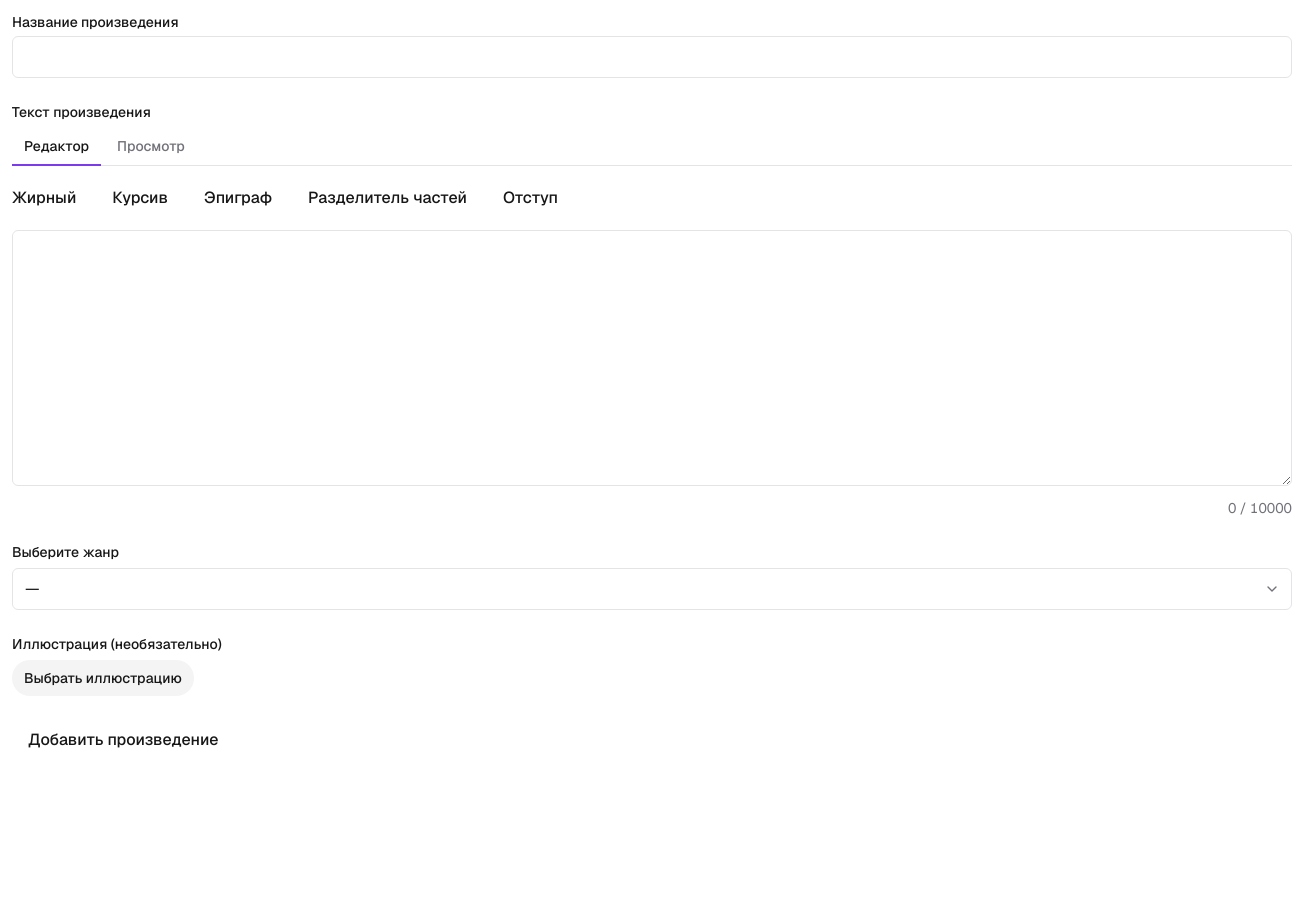
Test: NewPoemForm › switches an open «Просмотр» back to «Редактор» to focus an invalid text
The width and height of the screenshot is (1304, 912).
Click the field labelled "Название произведения" at (652, 57), box x1=12 y1=36 x2=1292 y2=78
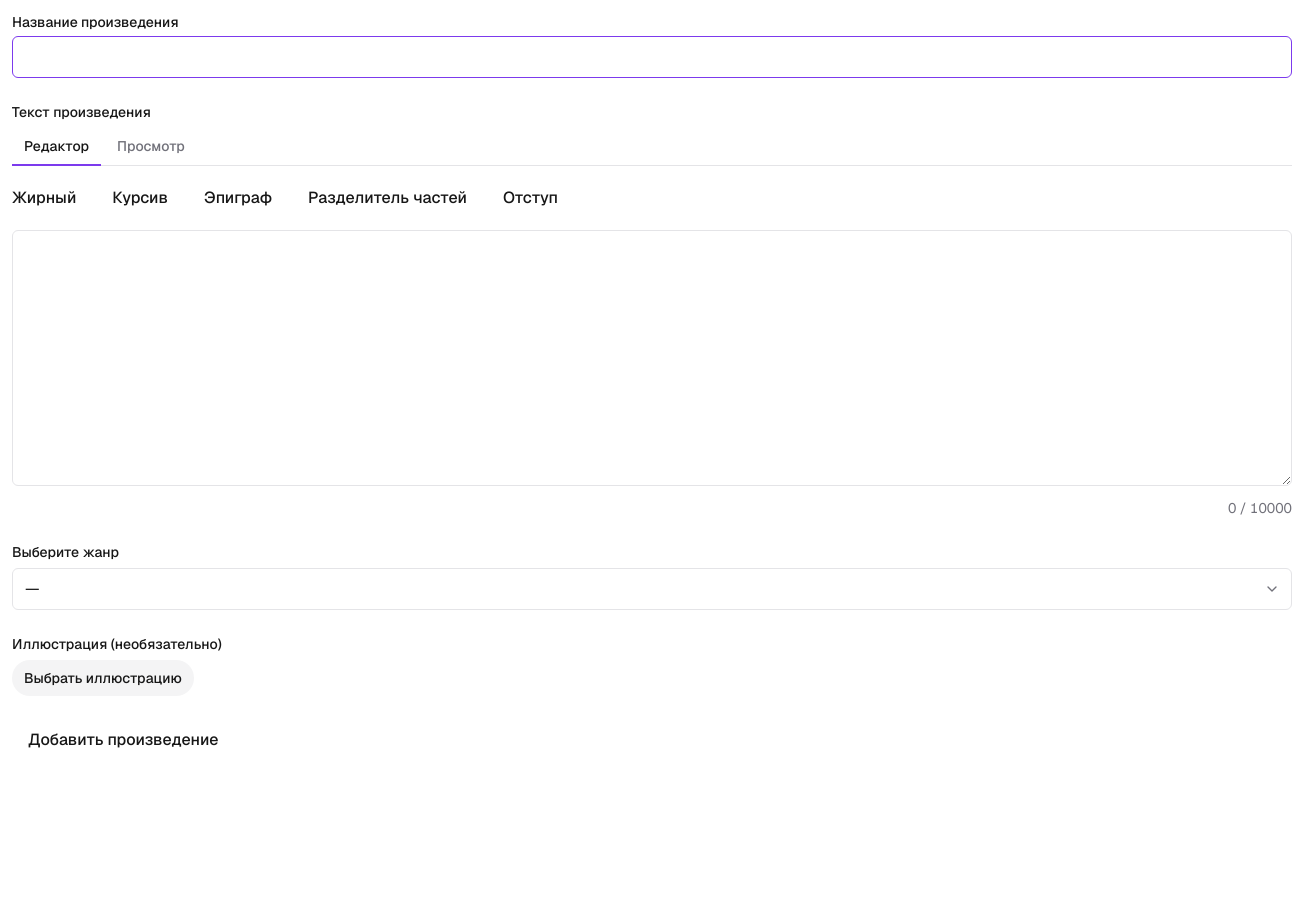
Type keys "Первый снег"
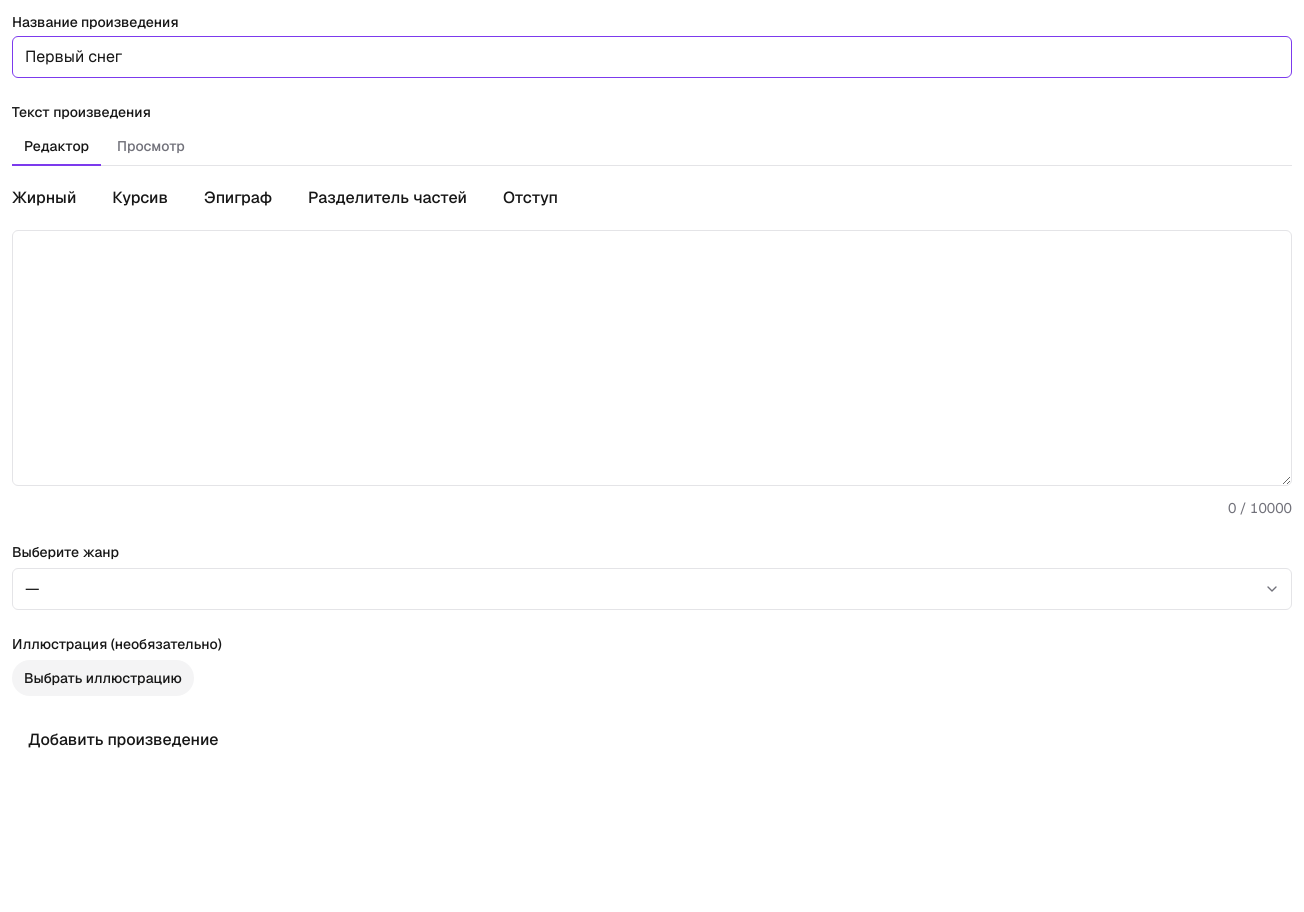
Select "Лирика" in the dropdown labelled "Выберите жанр" at (652, 589), box x1=12 y1=568 x2=1292 y2=610
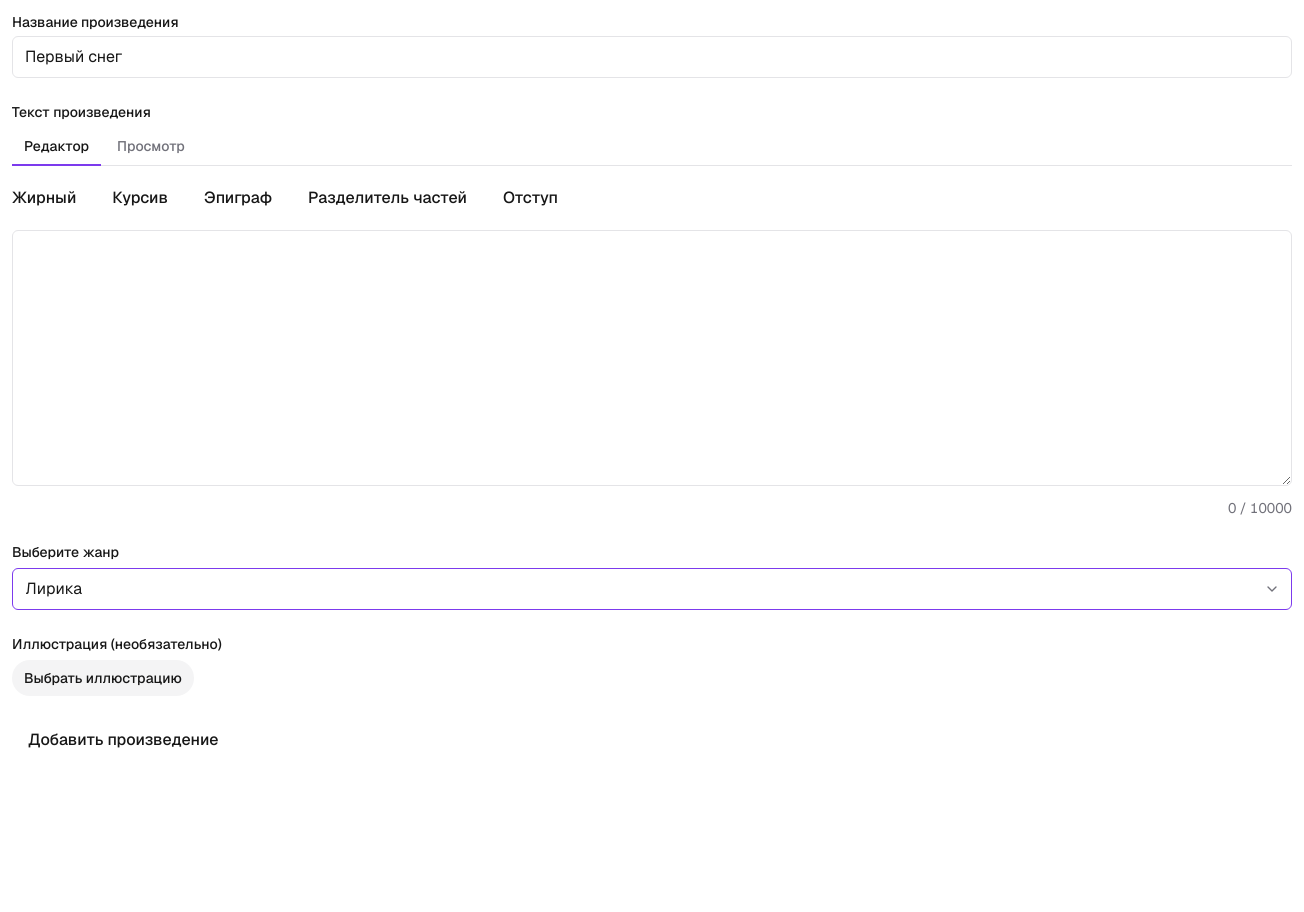
Click the tab "Просмотр" at (151, 147), box x1=105 y1=128 x2=197 y2=166
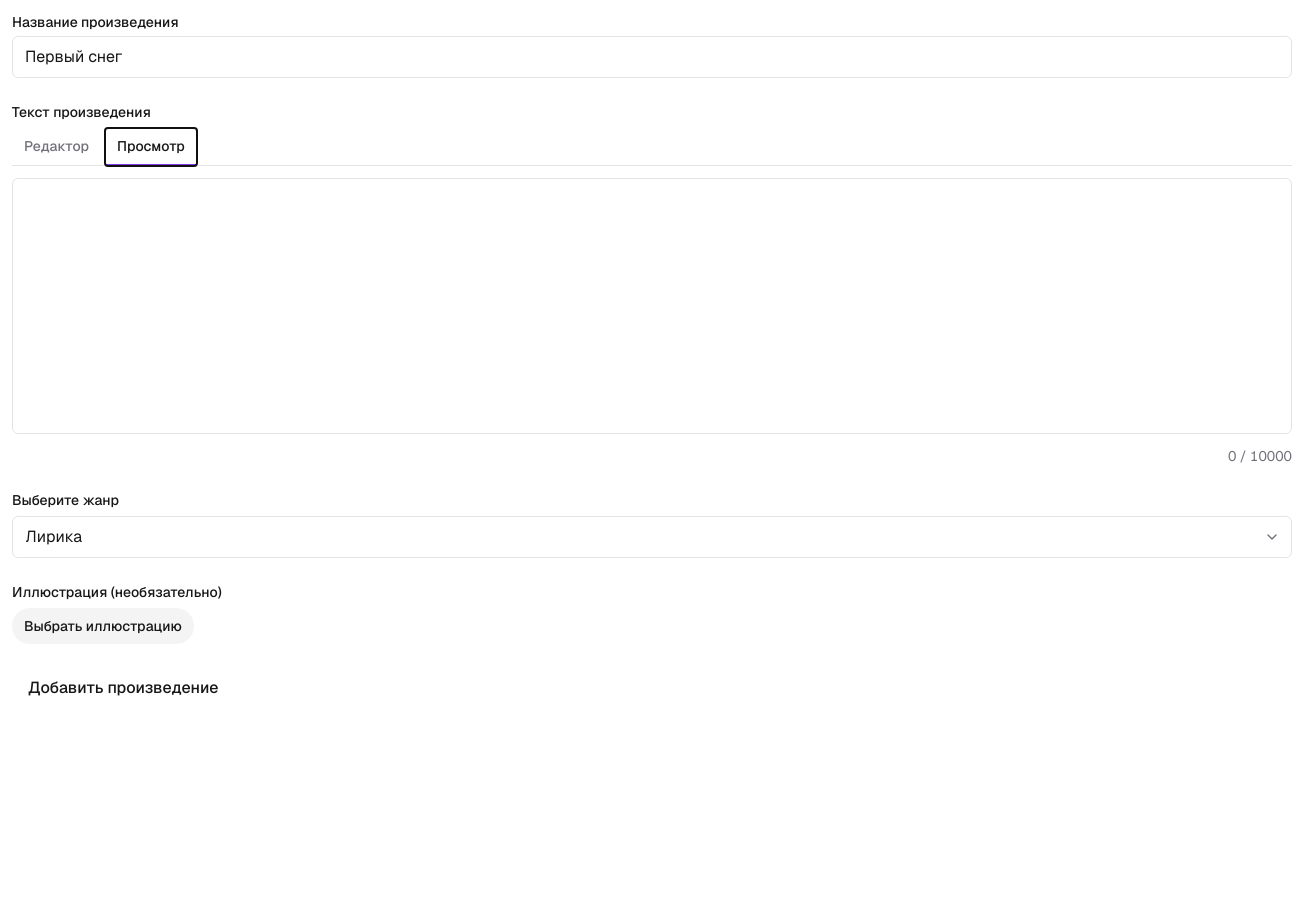
Click the button "Добавить произведение" at (123, 688), box x1=12 y1=668 x2=234 y2=708
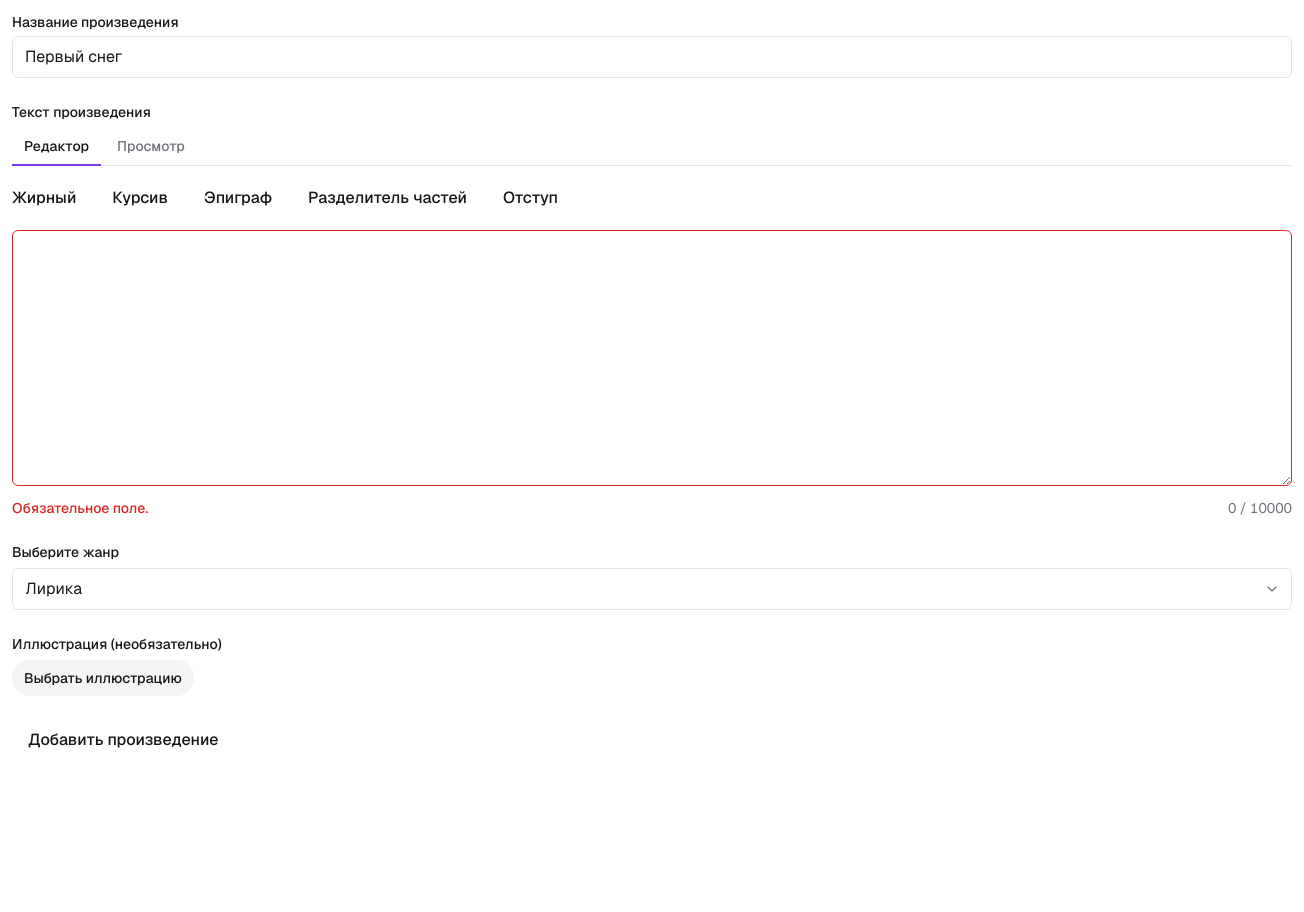
Now the text box labelled "Текст произведения" is shown, box x1=12 y1=230 x2=1292 y2=486
